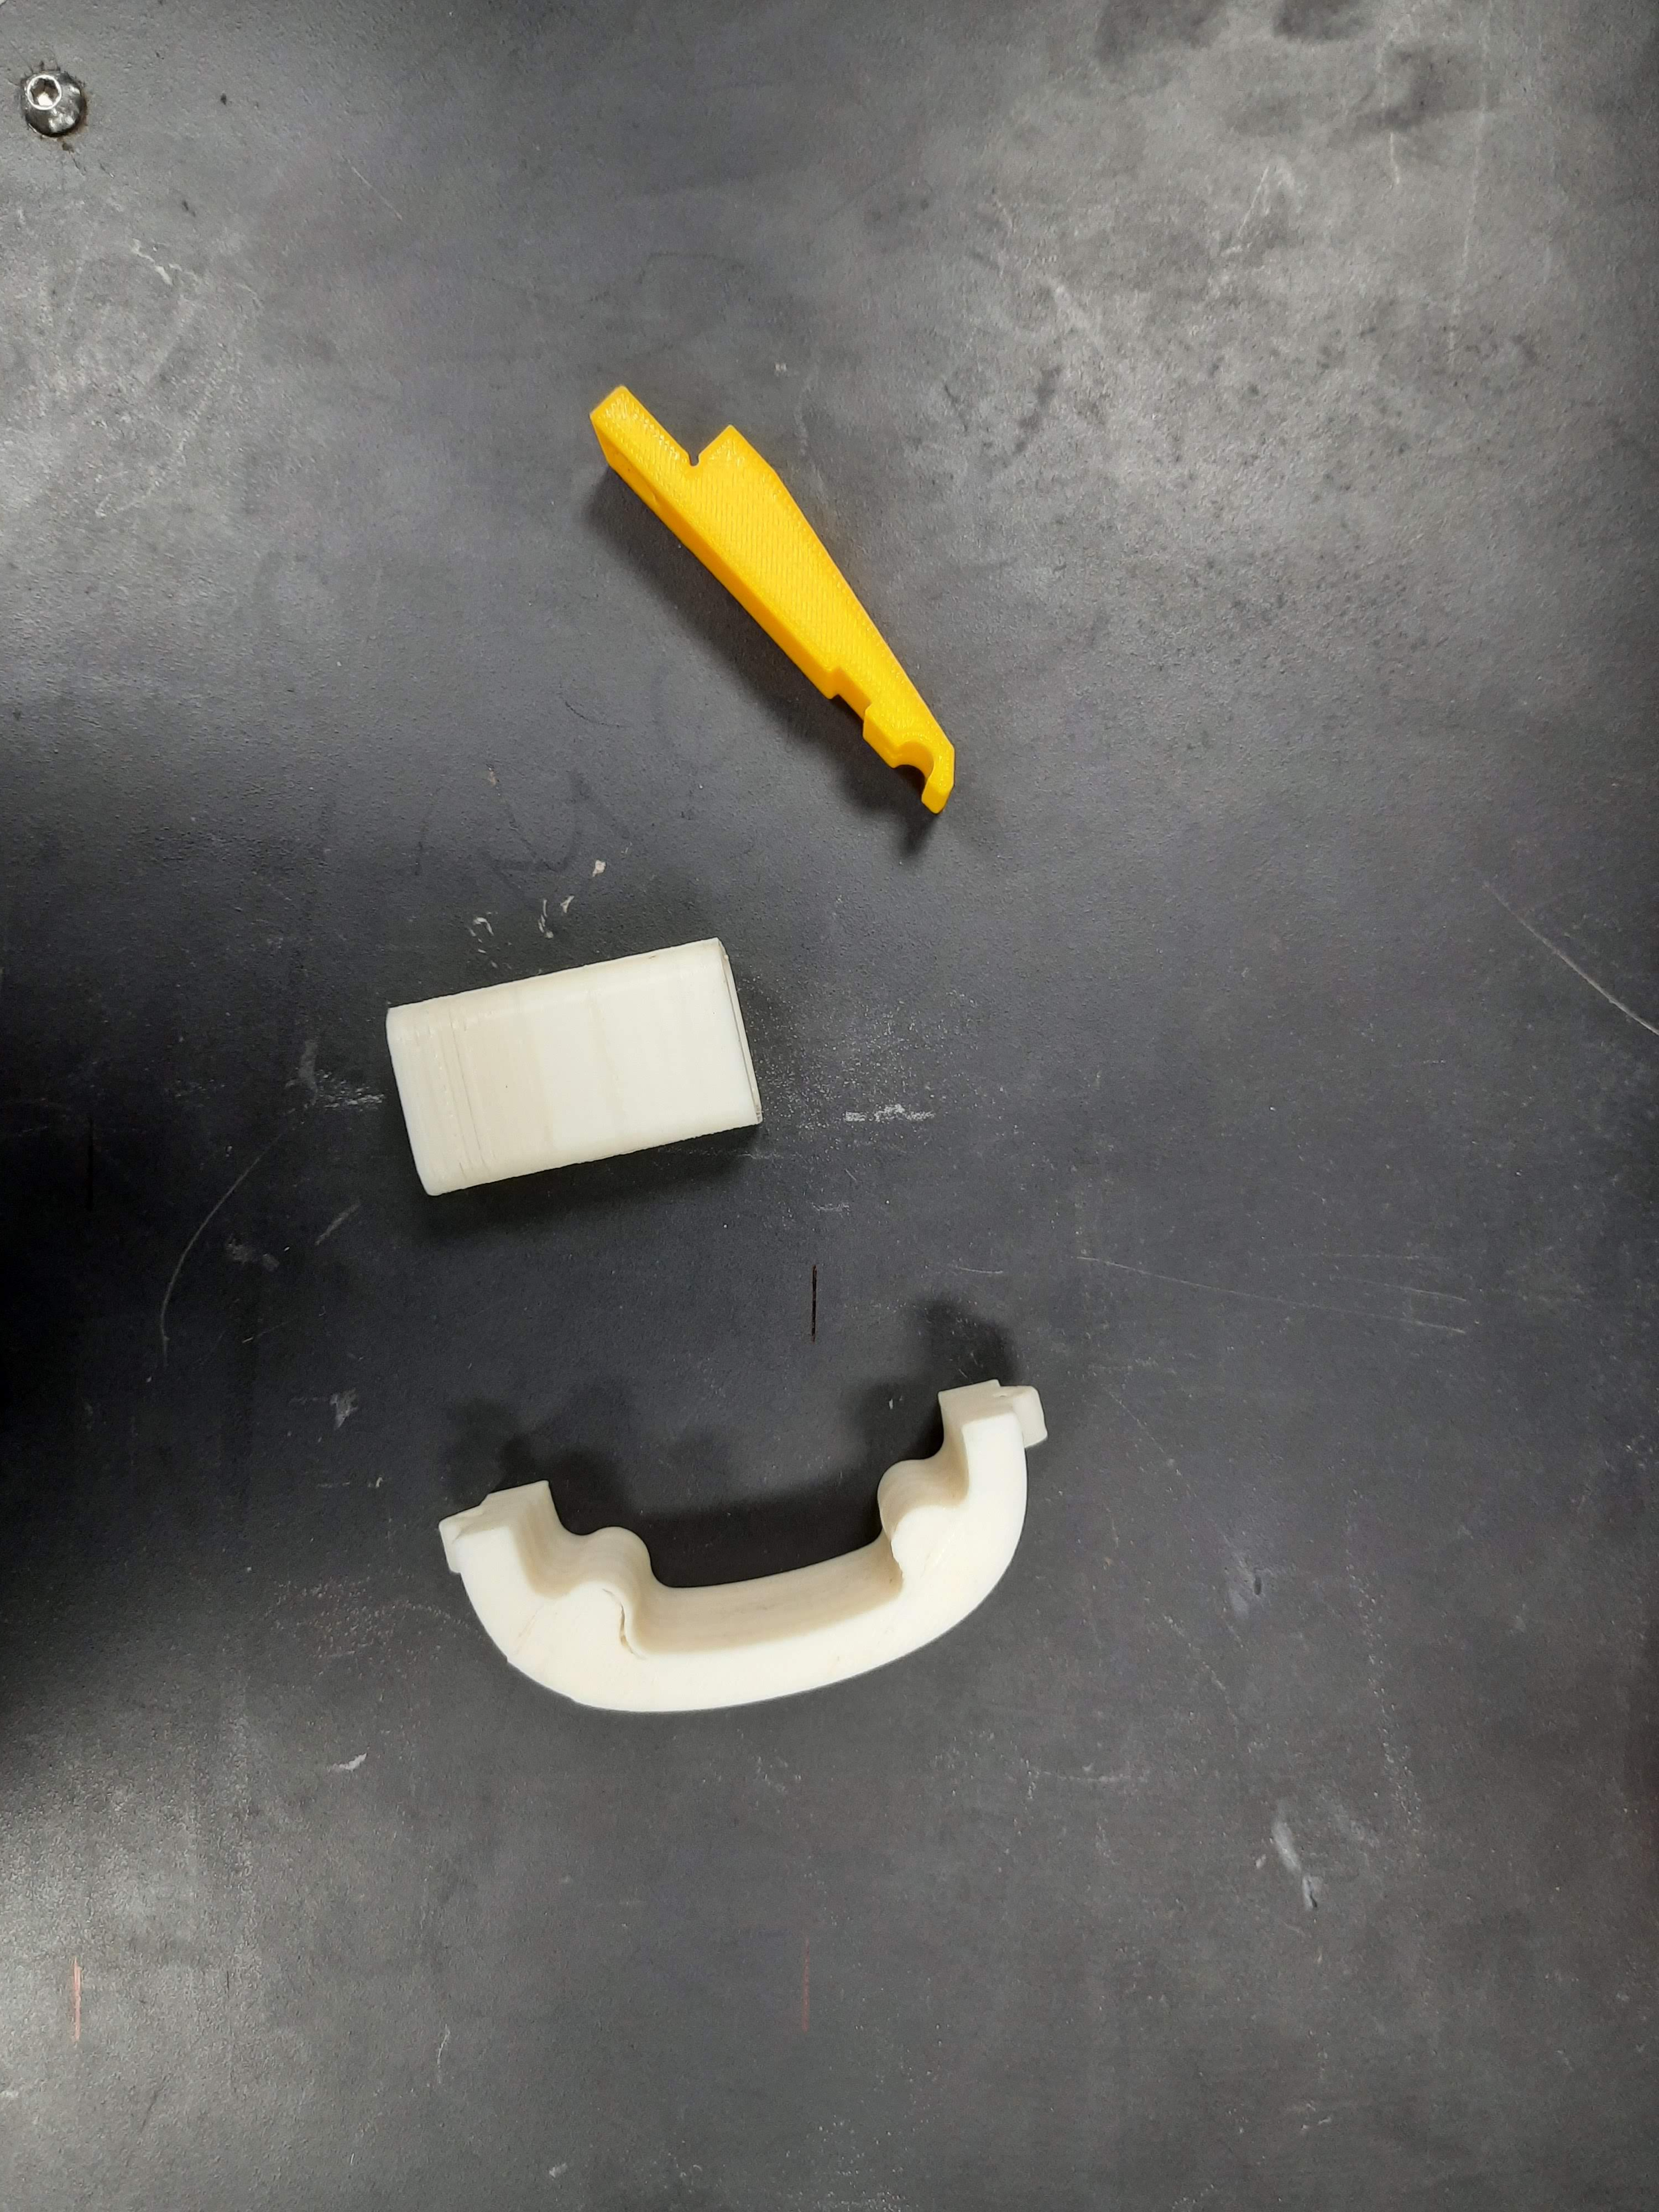ARC: (432, 1360, 1098, 1770)
CUBE: (380, 934, 763, 1195)
YELLOW: (568, 338, 1026, 819)
